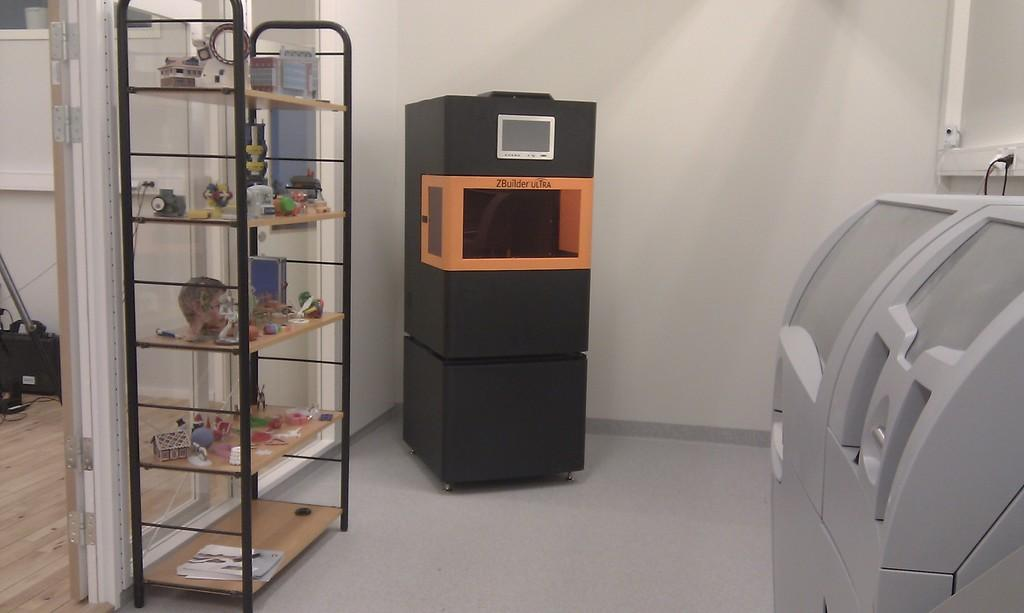Book: (176, 543, 285, 582)
